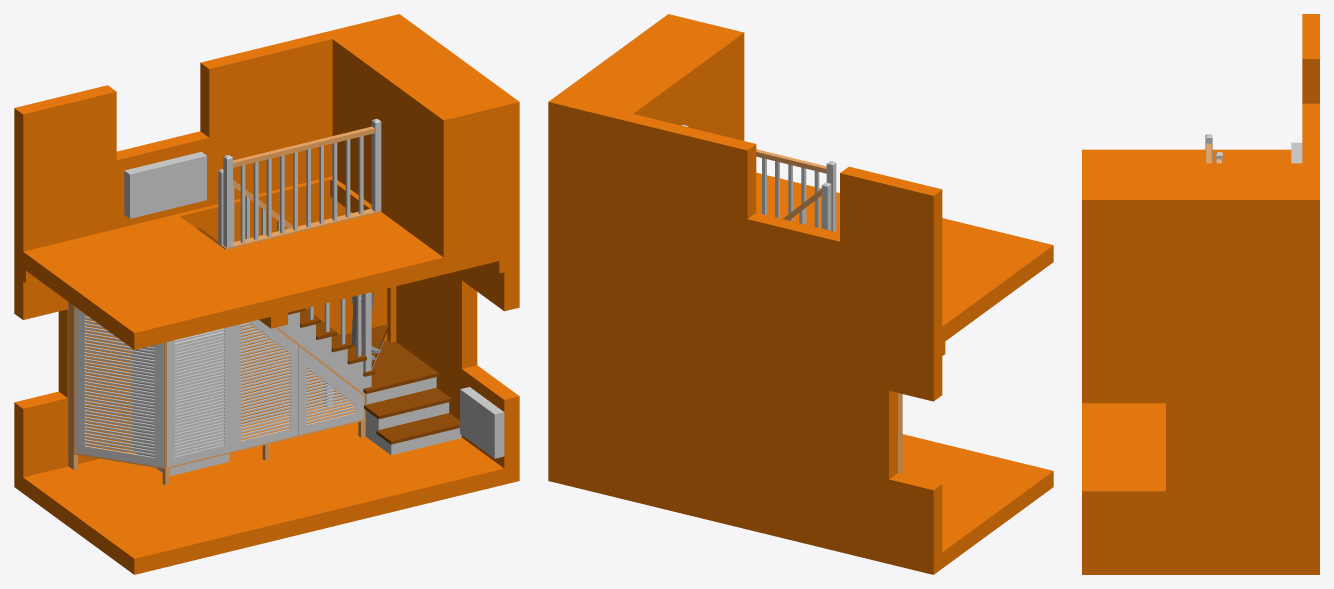
File: 3D Сборка 2.obj
The picture shows the model from 3 angles, left to right: view 1: azimuth 30°, elevation 25°; view 2: azimuth 150°, elevation 25°; view 3: azimuth 270°, elevation 25°; orthographic projection.
Size of the model in its own units: 5 by 4.7 by 2.7.
